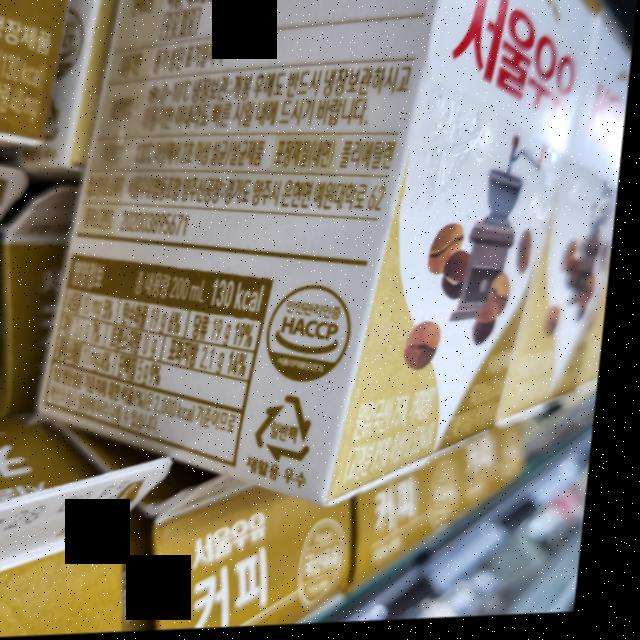NormalPack: (262, 395, 334, 468)
